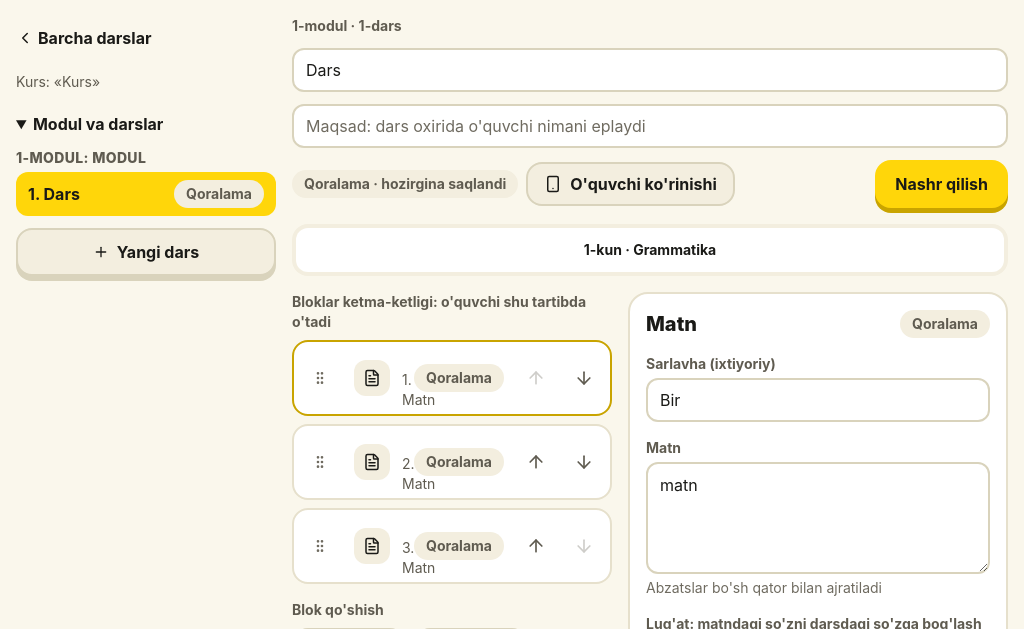
Test case: M4: reorders are serialised and roll back to the last confirmed order › two quick moves run one after the other; the failing second one restores the FIRST confirmed order
The image size is (1024, 629).
Step 1. Click the button named "1-blokni pastga ko'chirish" → (584, 378), box [562,356,606,400]
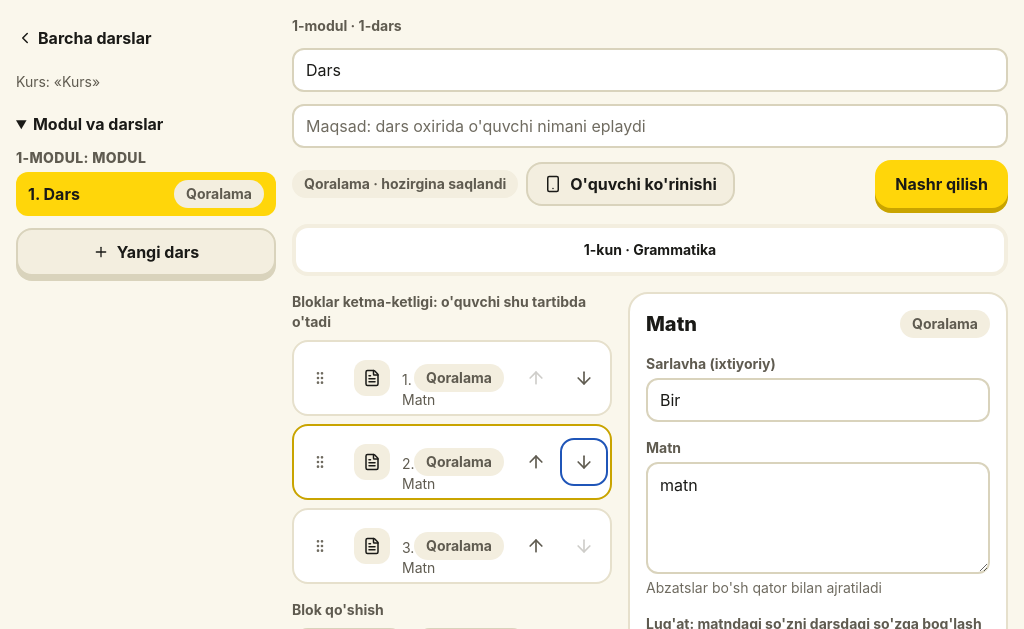
Step 2. Click the button named "2-blokni pastga ko'chirish" → (584, 462), box [562,440,606,484]
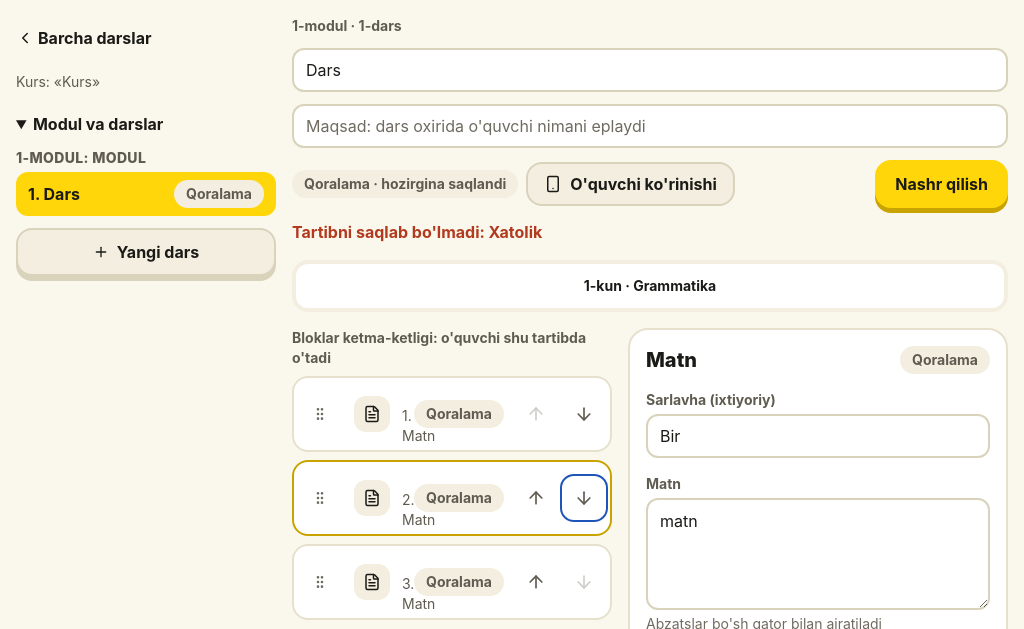
expect the text "Tartibni saqlab bo'lmadi: Xatolik" is shown: met, box [292,222,542,242]
